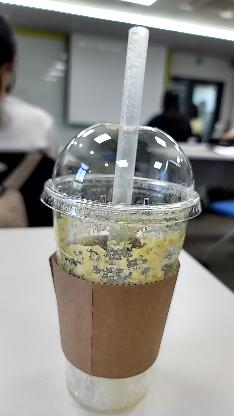Plastic Cup: (39, 121, 203, 413), (38, 120, 202, 224), (112, 33, 150, 210)
